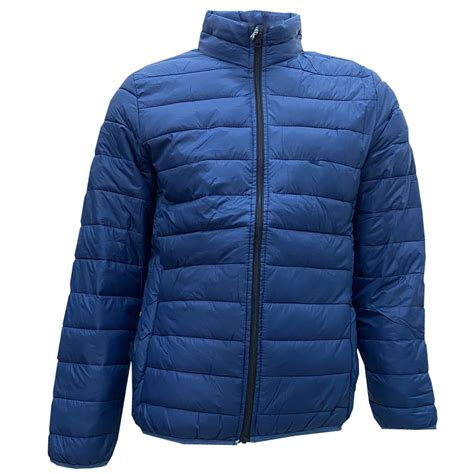nylon: (47, 9, 437, 469)
